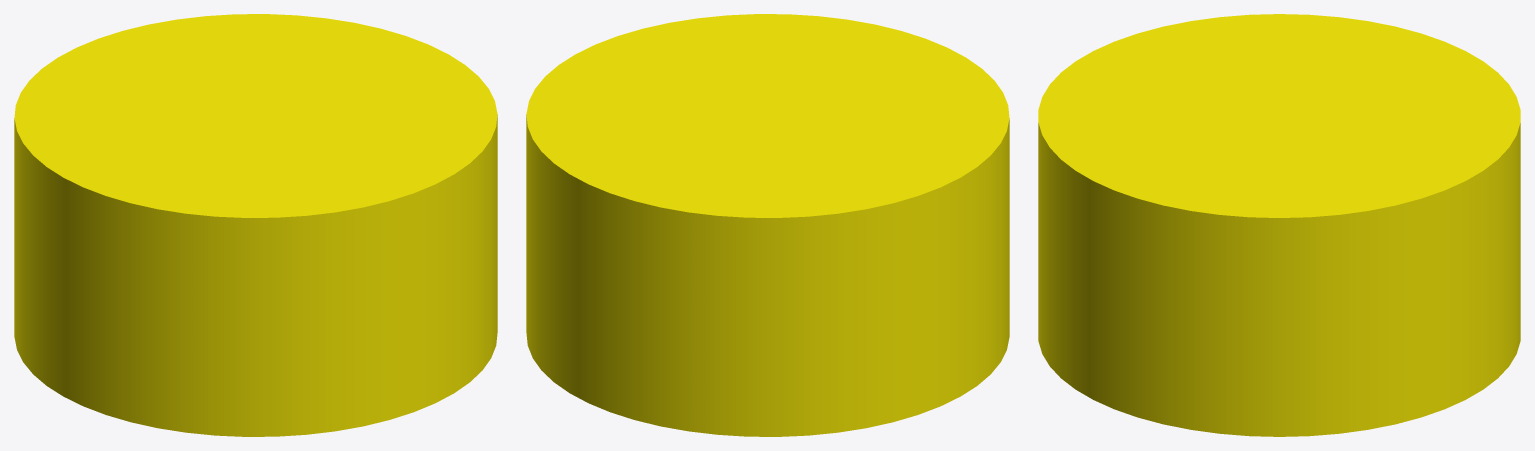
The model's file is CircleBlock.fbx.
3 renders of one model, left to right at view 1: azimuth 30°, elevation 25°; view 2: azimuth 150°, elevation 25°; view 3: azimuth 270°, elevation 25°, orthographic.
Parts seen in each view (by area): view 1: pCylinder1; view 2: pCylinder1; view 3: pCylinder1.
Part boxes in pixels (<box>): pCylinder1: <box>14,14,497,436</box>; pCylinder1: <box>526,14,1009,436</box>; pCylinder1: <box>1038,14,1520,436</box>.
Size of the model in its own units: 6 by 3 by 5.99.
1 material, 1 textured.
